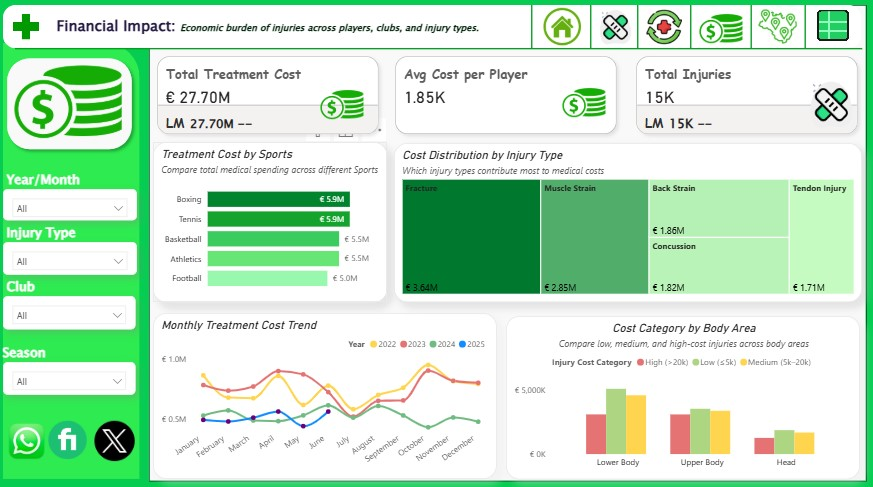

Layout of this report page (visuals, bound fields, positions):
{"tool":"powerbi","page":{"name":"fin imp","canvas":[1280,720],"ordinal":3},"visuals":[{"type":"shape","box":[0,0,1280.2,720],"z":0},{"type":"shape","box":[5.8,69.1,200.2,637.9],"z":1000},{"type":"shape","box":[218.9,13,1049.8,697],"z":2000},{"type":"shape","box":[5.8,13,1255.7,63.4],"z":3000},{"type":"textbox","box":[79.2,23,894.2,53.3],"z":4000},{"type":"barChart","title":"Treatment Cost by Sports","fields":{"Category":["DimClub.Sport"],"Y":["Measure.Total Treatment Cost"]},"box":[225.1,213.3,342.7,235.2],"z":5000},{"type":"lineChart","title":"Monthly Treatment Cost Trend","fields":{"Y":["Measure.Total Treatment Cost"],"Category":["DateTable.Month Name"],"Series":["DateTable.Year"]},"box":[224.6,463.7,502.6,243.4],"z":6000},{"type":"clusteredColumnChart","title":"Cost Category by Body Area","fields":{"Category":["DimInjuryType.Body Area Category"],"Y":["Measure.Total Treatment Cost"],"Series":["FactInjuries.Injury Cost Category"]},"box":[741.6,468,518.4,239],"z":7000},{"type":"image","box":[0,8.6,79.2,73.4],"z":8000},{"type":"slicer","title":"Year/Month","fields":{"Values":["DateTable.Year","DateTable.Month Name"]},"box":[5.8,282.2,195.8,46.1],"z":9000},{"type":"textbox","box":[5.8,250.6,149.8,60.5],"z":10000},{"type":"slicer","title":"Year/Month","fields":{"Values":["DimInjuryType.InjuryType"]},"box":[5.8,360,195.8,47.5],"z":11000},{"type":"textbox","box":[5.8,328.3,200.2,60.5],"z":12000},{"type":"slicer","title":"Year/Month","fields":{"Values":["DimClub.ClubTeamName"]},"box":[5.8,439.2,194.4,49],"z":13000},{"type":"textbox","box":[5.8,407.5,149.8,60.5],"z":14000},{"type":"cardVisual","title":"dbdbdbdbd","fields":{"Data":["Measure.Cost per Player"]},"box":[567.4,76.3,348.5,138.2],"z":15000},{"type":"treemap","title":"Cost Distribution by Injury Type","fields":{"Values":["Measure.Total Treatment Cost"],"Group":["DimInjuryType.InjuryType"]},"box":[577.4,214.6,685.4,233.3],"z":16000},{"type":"slicer","title":"Year/Month","fields":{"Values":["FactInjuries.Season"]},"box":[5.8,535.7,194.4,47.5],"z":17000},{"type":"textbox","box":[0,504,200.2,56.2],"z":18000},{"type":"image","box":[819.4,115.2,73.4,80.6],"z":19000},{"type":"image","box":[792,10.1,64.8,69.1],"z":20000},{"type":"image","box":[871.2,10.1,63.4,70.6],"z":21000},{"type":"image","box":[941.8,7.2,61.9,76.3],"z":22000},{"type":"image","box":[1019.5,7.2,73.4,80.6],"z":23000},{"type":"shape","box":[756,13,46.1,63.4],"z":24000},{"type":"shape","box":[842.4,13,46.1,63.4],"z":25000},{"type":"shape","box":[911.5,13,46.1,63.4],"z":26000},{"type":"shape","box":[989.3,13,46.1,63.4],"z":27000},{"type":"shape","box":[1075.7,13,50.4,63.4],"z":28000},{"type":"shape","box":[1154.9,13,50.4,63.4],"z":29000},{"type":"shape","box":[23,46.1,1239.8,63.4],"z":30000},{"type":"image","box":[1105.9,11.5,66.2,66.2],"z":31000},{"type":"image","box":[1180.8,11.5,76.3,60.5],"z":32000},{"type":"shape","box":[2.9,82.1,200.2,151.2],"z":33000},{"type":"image","box":[17.3,67.7,167,175.7],"z":34000},{"type":"image","box":[0,614.9,80.6,73.4],"z":35000},{"type":"image","box":[67.7,614.9,66.2,69.1],"z":36000},{"type":"image","box":[133.9,614.9,69.1,72],"z":37000},{"type":"cardVisual","title":"dbdbdbdbd","fields":{"Data":["Measure.Total Treatment Cost"]},"box":[218.9,76.3,348.5,138.2],"z":38000},{"type":"image","box":[465.1,118.1,73.4,80.6],"z":39000},{"type":"cardVisual","title":"dbdbdbdbd","fields":{"Data":["Measure.Total Injuries"]},"box":[920.2,76.3,348.5,138.2],"z":40000},{"type":"image","box":[1176.5,118.1,83.5,80.6],"z":41000}]}

Visuals, with their boxes in screenshot pixels (x1, y1, x2, y2), scaled from the page's 1280x720 canvas onto the 873x487 screenshot:
shape: locate(0, 0, 872, 486)
shape: locate(4, 47, 140, 478)
shape: locate(149, 9, 865, 480)
shape: locate(4, 9, 860, 52)
textbox: locate(54, 16, 664, 52)
"Treatment Cost by Sports" barChart: locate(154, 144, 387, 303)
"Monthly Treatment Cost Trend" lineChart: locate(153, 314, 496, 478)
"Cost Category by Body Area" clusteredColumnChart: locate(506, 317, 859, 478)
image: locate(0, 6, 54, 55)
"Year/Month" slicer: locate(4, 191, 137, 222)
textbox: locate(4, 170, 106, 210)
"Year/Month" slicer: locate(4, 244, 137, 276)
textbox: locate(4, 222, 140, 263)
"Year/Month" slicer: locate(4, 297, 137, 330)
textbox: locate(4, 276, 106, 317)
"dbdbdbdbd" cardVisual: locate(387, 52, 625, 145)
"Cost Distribution by Injury Type" treemap: locate(394, 145, 861, 303)
"Year/Month" slicer: locate(4, 362, 137, 394)
textbox: locate(0, 341, 137, 379)
image: locate(559, 78, 609, 132)
image: locate(540, 7, 584, 54)
image: locate(594, 7, 637, 55)
image: locate(642, 5, 685, 56)
image: locate(695, 5, 745, 59)
shape: locate(516, 9, 547, 52)
shape: locate(575, 9, 606, 52)
shape: locate(622, 9, 653, 52)
shape: locate(675, 9, 706, 52)
shape: locate(734, 9, 768, 52)
shape: locate(788, 9, 822, 52)
shape: locate(16, 31, 861, 74)
image: locate(754, 8, 799, 53)
image: locate(805, 8, 857, 49)
shape: locate(2, 56, 139, 158)
image: locate(12, 46, 126, 165)
image: locate(0, 416, 55, 466)
image: locate(46, 416, 91, 463)
image: locate(91, 416, 138, 465)
"dbdbdbdbd" cardVisual: locate(149, 52, 387, 145)
image: locate(317, 80, 367, 134)
"dbdbdbdbd" cardVisual: locate(628, 52, 865, 145)
image: locate(802, 80, 859, 134)
